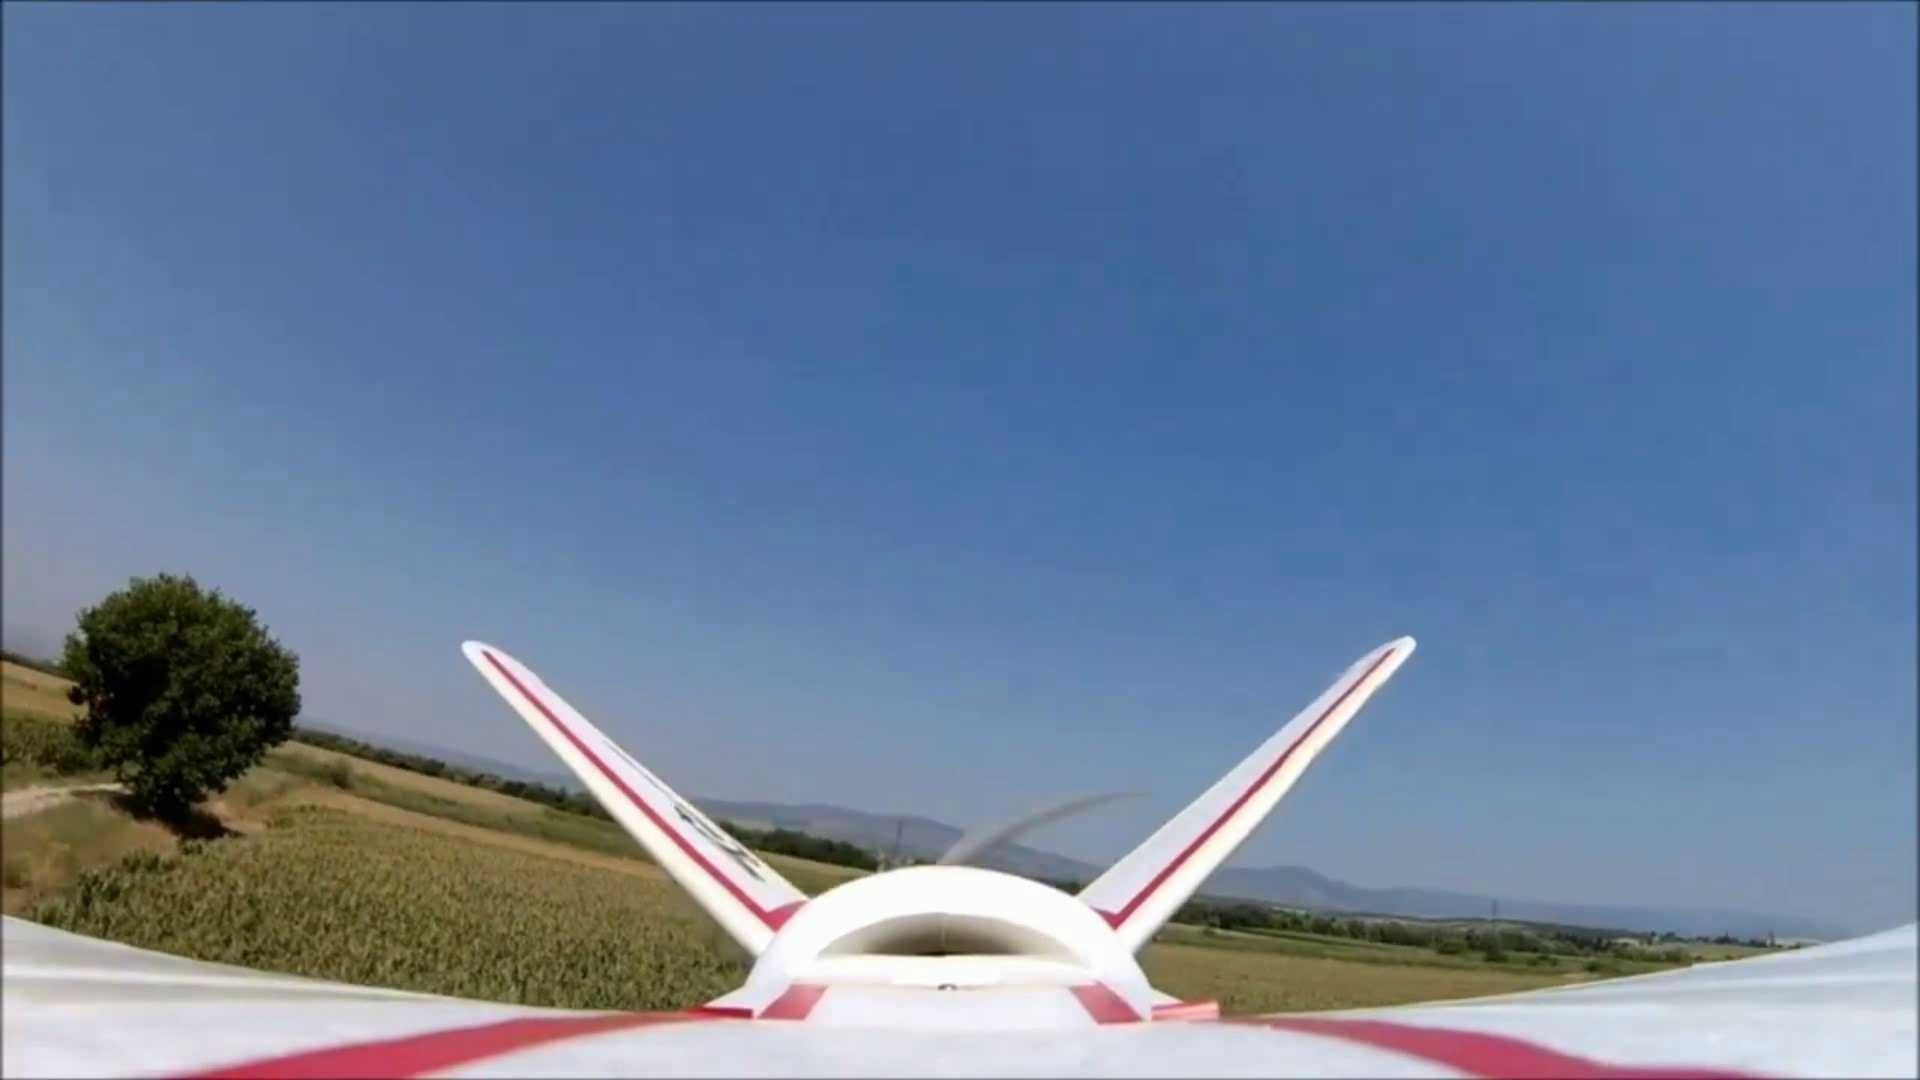airplane: (222, 636, 1904, 1064), (12, 636, 1511, 1063), (315, 632, 1414, 1038)
